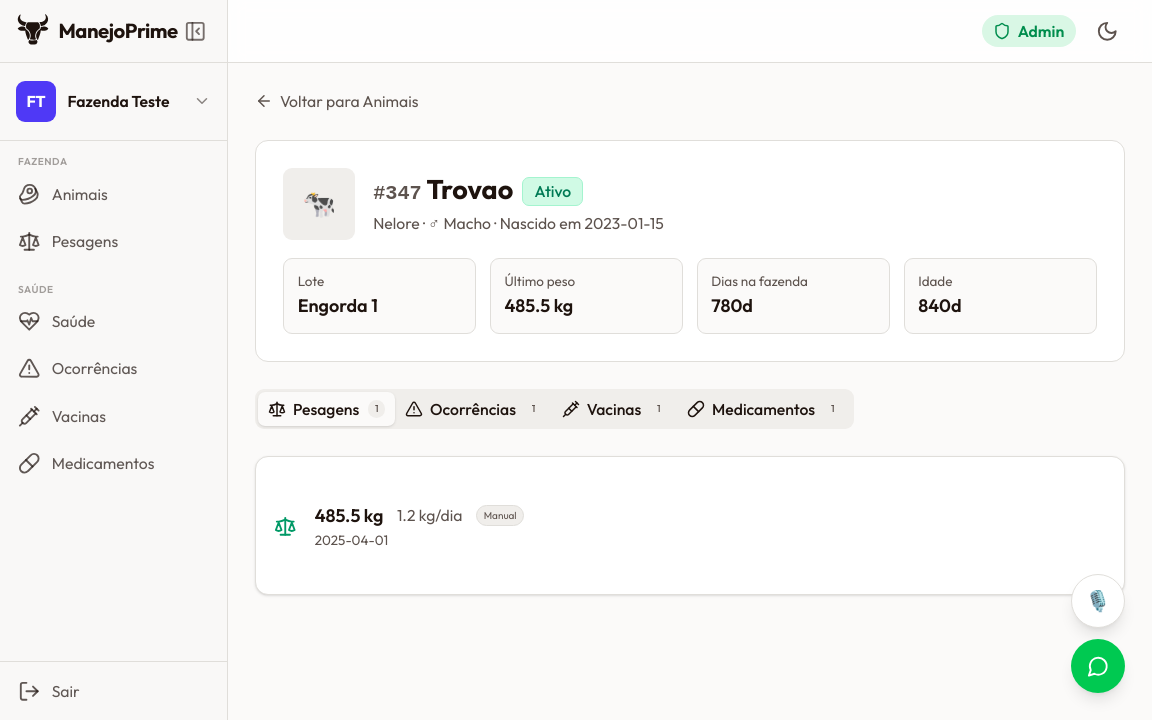
Test case: animal detail page › Vaccines tab renders vaccine rows from API
The width and height of the screenshot is (1152, 720).
Expected: the text "485.5 kg" below "Último peso" is shown, [504,294,573,317]
Press the mouse on the tab "Vacinas 1": (615,409) [552,392,677,426]
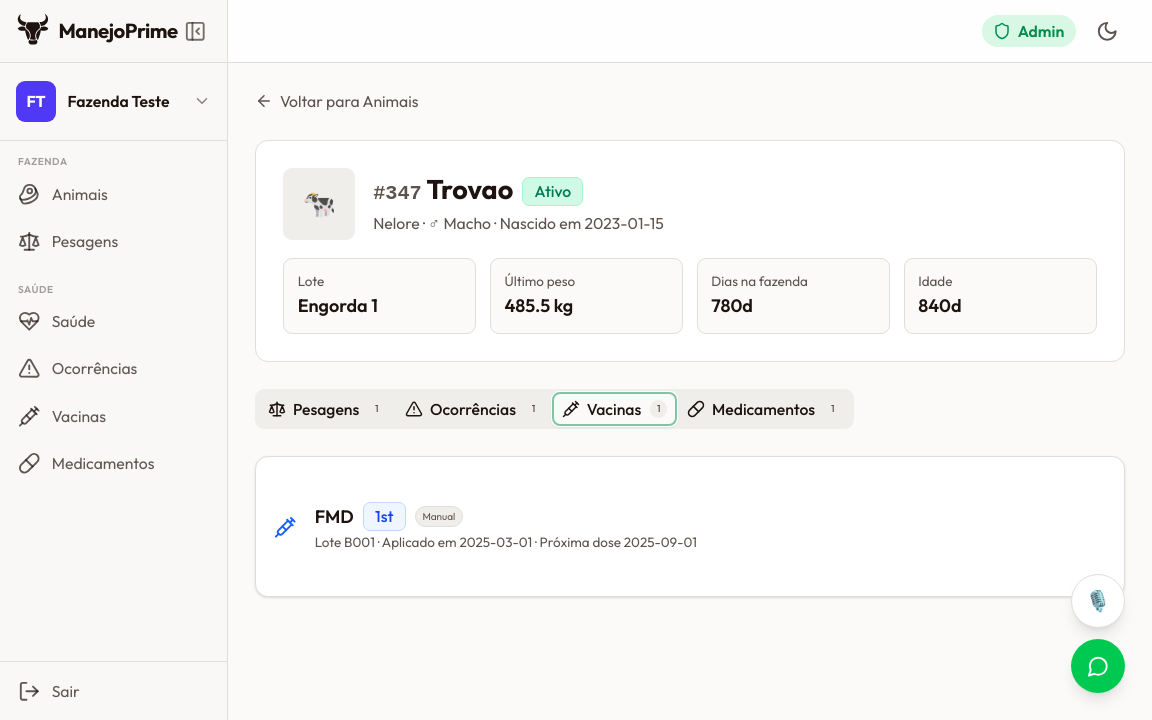
Expected: the text "FMD" is shown, [315,503,354,530]
Expected: the text "1st" is shown, [363,502,406,531]
